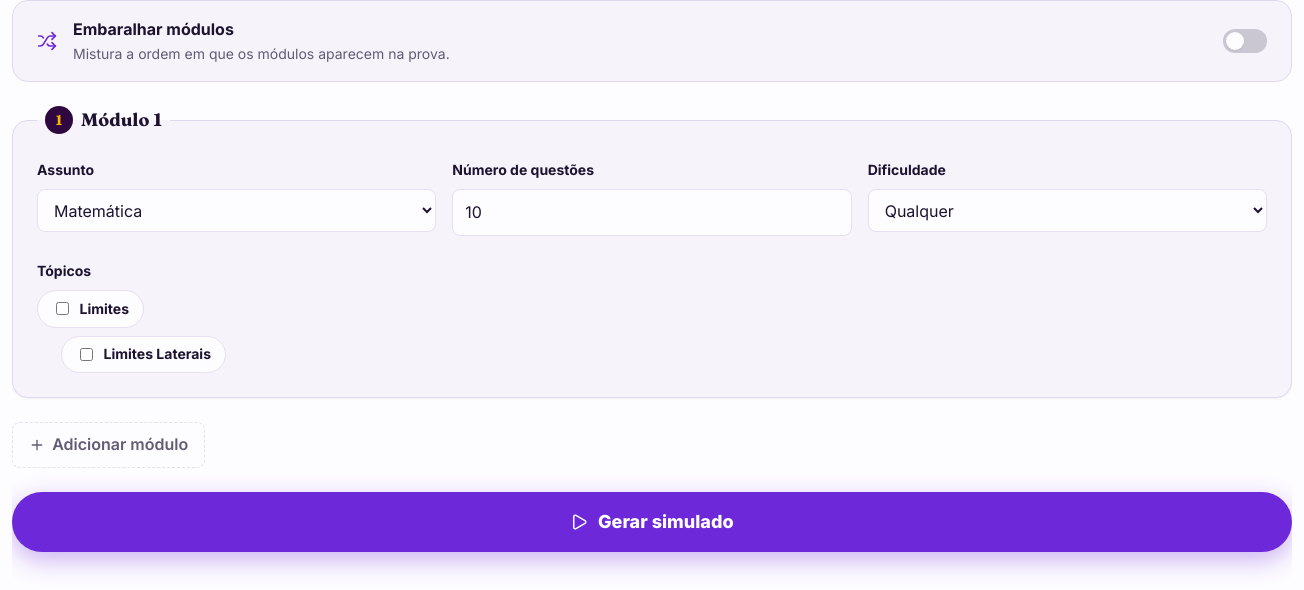
Test: SimuladoSetup › deselecting a topic also deselects all of its subtopics
Step 1. Click the checkbox labelled "Limites" → [62, 309], box [56,302,69,315]
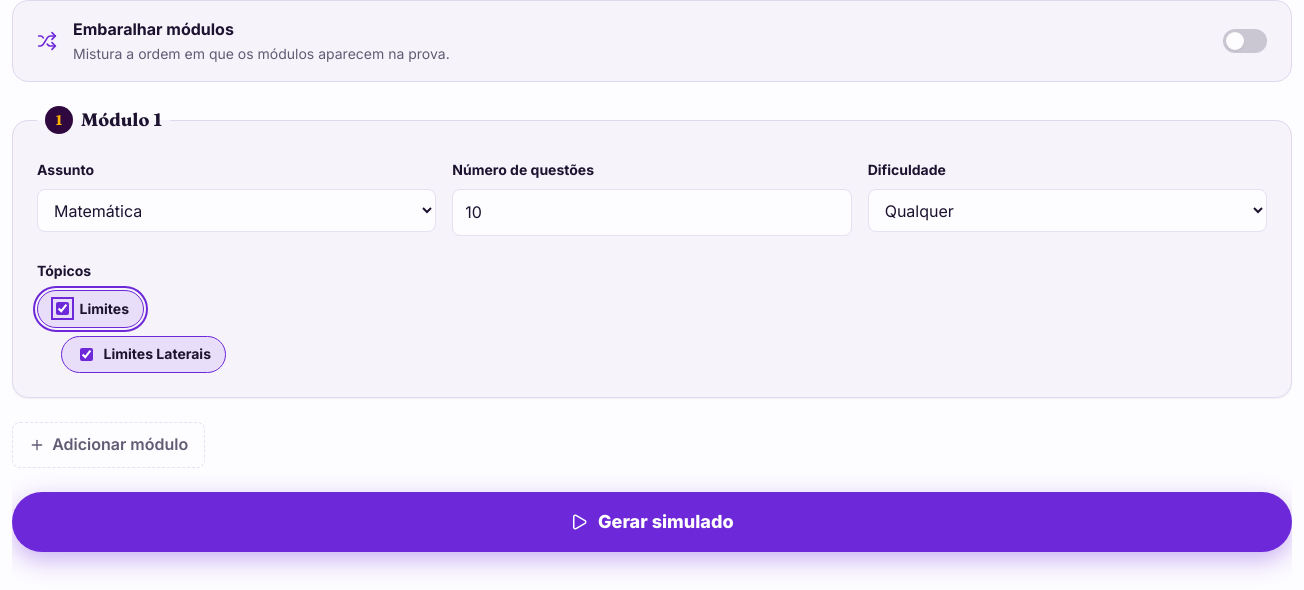
Step 2. Click the checkbox labelled "Limites" → [62, 309], box [56,302,69,315]
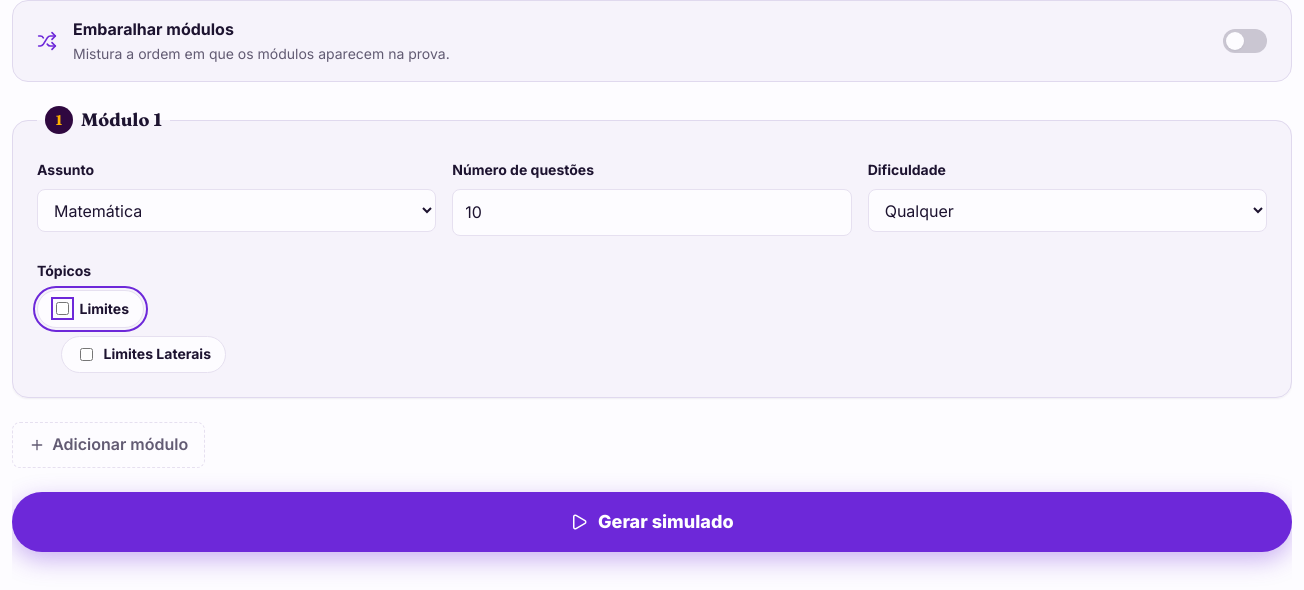
Now the checkbox labelled "Limites" is not checked, box [56,302,69,315]
Now the checkbox labelled "Limites Laterais" is not checked, box [80,348,93,361]
